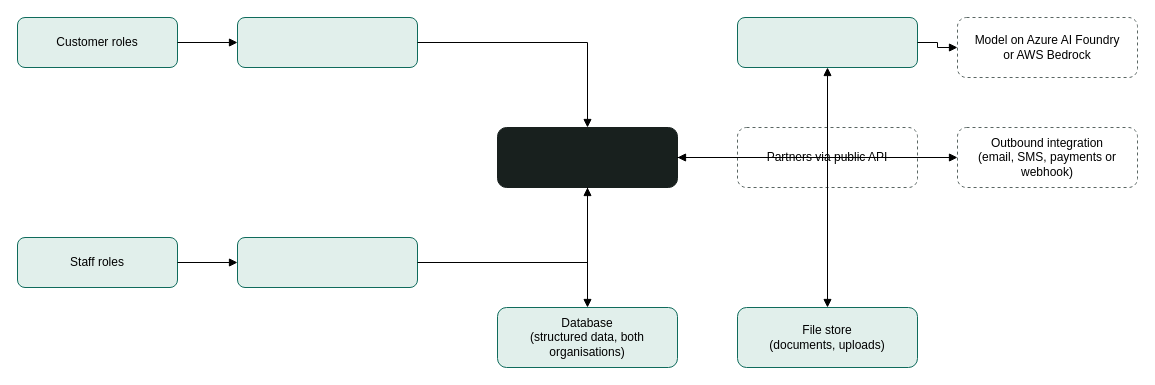
This 1155x385 diagram has some shape labels left out. The centre of each missing label's shape, as x and y in pixels:
AI chatbot: (x=827, y=42)
Back-end API (roles, audit log): (x=587, y=157)
Public website with login: (x=327, y=42)
Separate admin portal: (x=327, y=262)
